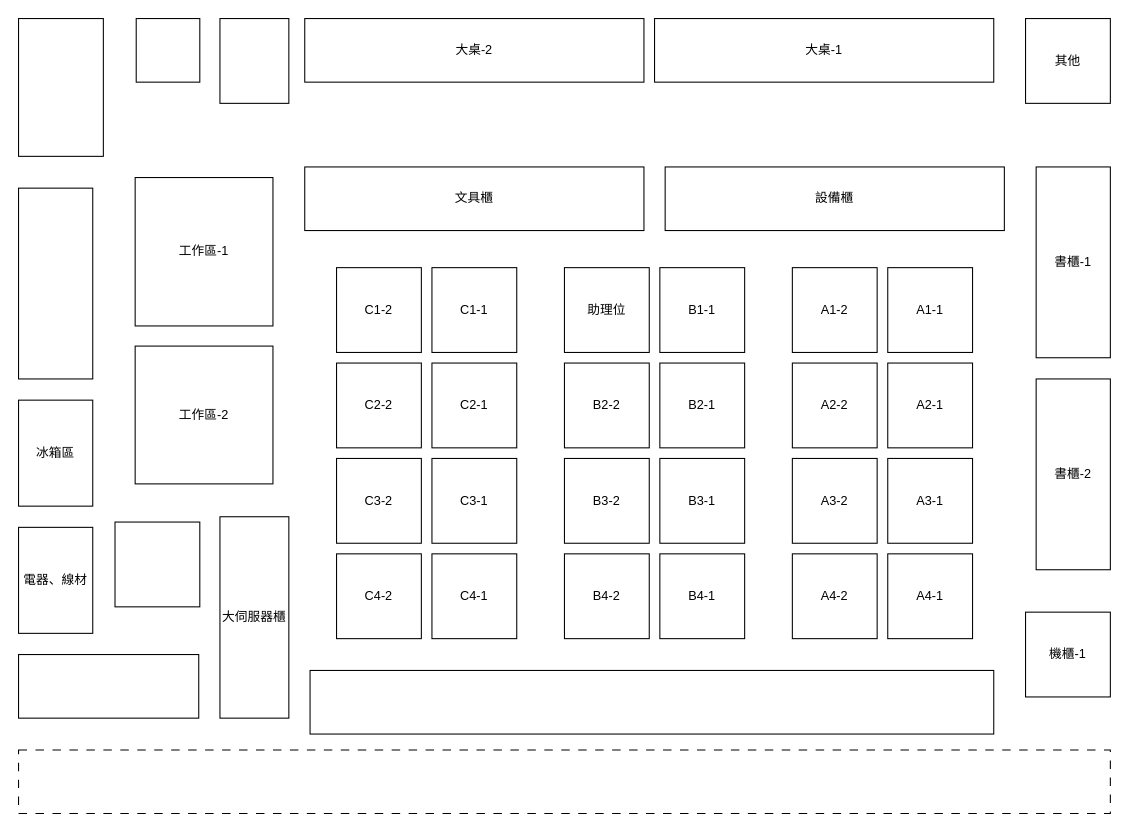
This 1129x832 diagram has some shape labels left out. Here are the shapes that lost their labels. From the top down, the box of each, then its label:
(135, 17, 200, 82): 印表機
(219, 17, 289, 103): 小伺服器櫃
(17, 17, 103, 156): 報廢櫃
(17, 653, 199, 718): 電視區
(309, 669, 994, 734): 座位區後方
(17, 749, 1110, 814): 老師辦公室
